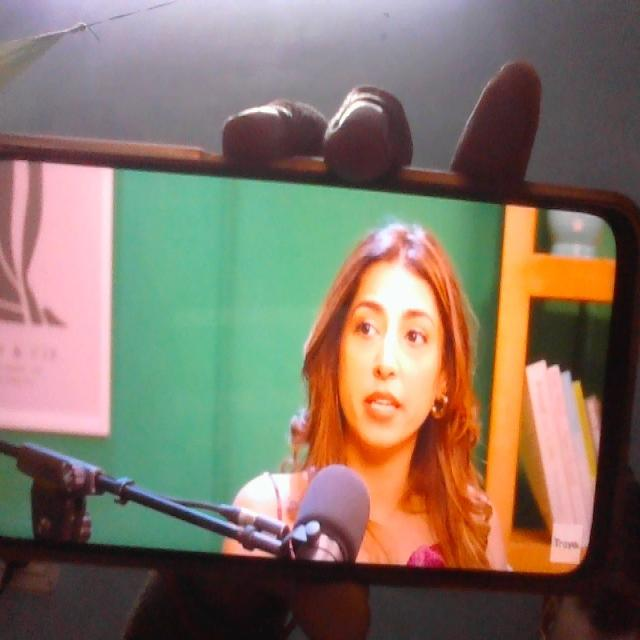fake: (329, 219, 457, 460)
